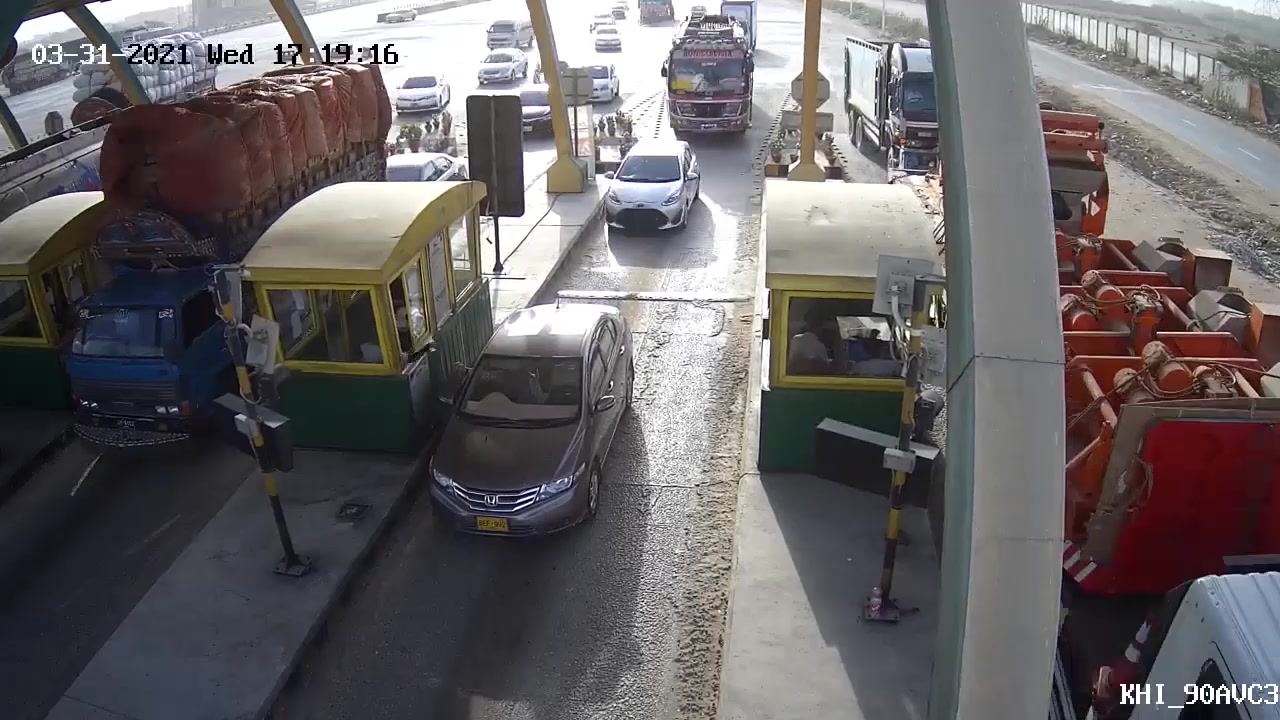F1: (412, 292, 643, 565)
